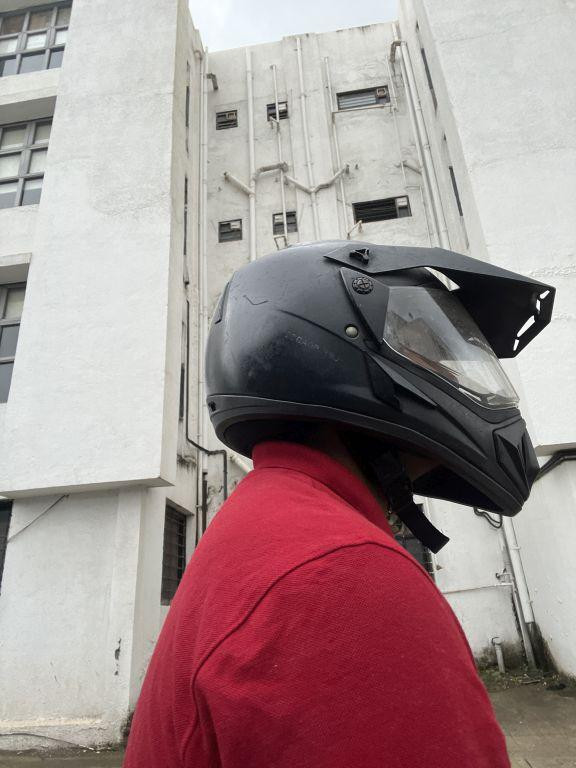helmet: (192, 229, 568, 529)
